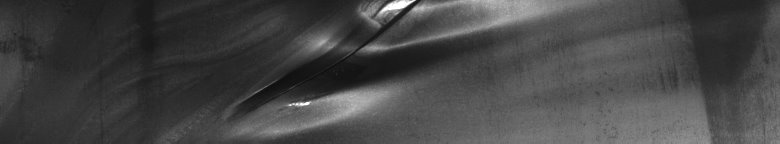ke: (235, 4, 510, 136)
